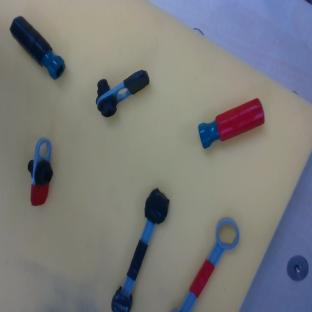part_1_bad: (84, 53, 153, 120)
part_1_good: (26, 137, 55, 206)
part_2_bad: (5, 12, 70, 82)
part_2_good: (193, 97, 269, 149)
part_3_bad: (105, 186, 174, 312)
part_3_good: (163, 214, 247, 312)
